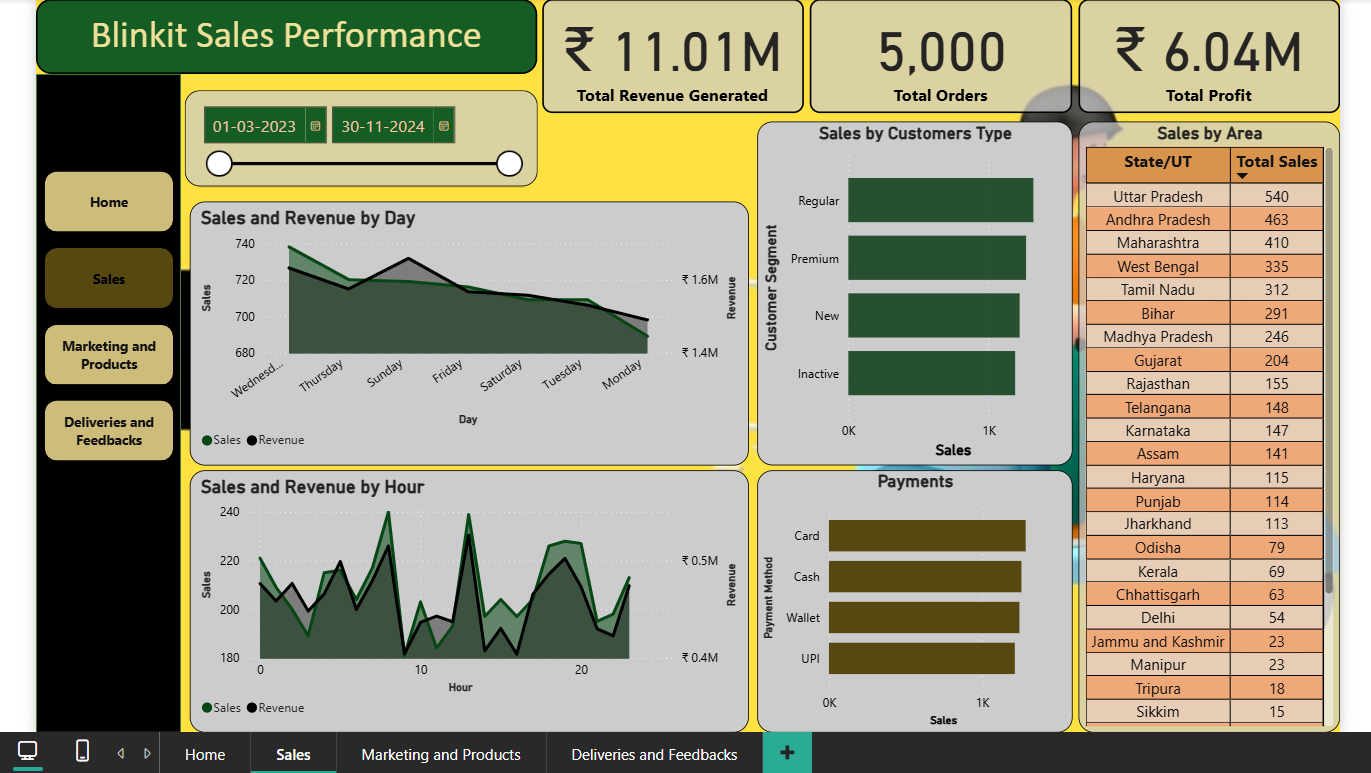

This screenshot's page, from the dashboard's own definition file:
{"tool":"powerbi","page":{"name":"Sales ","canvas":[1280,720],"ordinal":1},"visuals":[{"type":"card","fields":{"Values":["Sum(blinkit_project_files blinkit_orders.order_total)"]},"box":[497,0,256.4,111.7],"z":0},{"type":"card","fields":{"Values":["blinkit_project_files area_to_state1.Total_profit"]},"box":[1023.3,0,256.4,111.7],"z":1000},{"type":"card","fields":{"Values":["CountNonNull(blinkit_project_files blinkit_delivery_performance.order_id)"]},"box":[760,0,257.7,111.7],"z":2000},{"type":"slicer","fields":{"Values":["Date_Table_DDMMYYYY_Format.Date"]},"box":[146,89.6,346,94.5],"z":3000},{"type":"textbox","box":[0,0,492,73.6],"z":4000},{"type":"areaChart","fields":{"Category":["blinkit_project_files blinkit_orders.Order_hour"],"Y":["Count(blinkit_project_files blinkit_orders.order_id)"],"Y2":["Sum(blinkit_project_files blinkit_orders.order_total)"]},"box":[150.9,462.6,548.5,257.7],"z":5000},{"type":"tableEx","title":"Sales by Area","fields":{"Values":["blinkit_project_files area_to_state1.State/UT","blinkit_project_files blinkit_orders.order_id"]},"box":[1023.3,120.2,256.4,600],"z":6000},{"type":"areaChart","fields":{"Y":["Count(blinkit_project_files blinkit_orders.order_id)"],"Y2":["Sum(blinkit_project_files blinkit_orders.order_total)"],"Category":["Date_Table_DDMMYYYY_Format.Day"]},"box":[150.9,198.8,548.5,258.9],"z":7000},{"type":"barChart","title":"Sales by Customers Type","fields":{"Category":["blinkit_project_files blinkit_customers.customer_segment"],"Y":["Count(blinkit_project_files blinkit_orders.order_id)"]},"box":[708,120.2,309.2,337.4],"z":8000},{"type":"barChart","title":"Payments","fields":{"Category":["blinkit_project_files blinkit_orders.payment_method"],"Y":["Count(blinkit_project_files blinkit_orders.order_id)"]},"box":[708,462.6,309.2,257.7],"z":9000},{"type":"shape","box":[0,73.6,142.3,646.6],"z":9001},{"type":"pageNavigator","box":[8.6,169.3,126.4,287.1],"z":9002}]}

Visuals, with their boxes in screenshot pixels (x1, y1, x2, y2):
card - Sum(blinkit_project_files blinkit_orders.order_total): crop(538, 0, 800, 107)
card - blinkit_project_files area_to_state1.Total_profit: crop(1075, 0, 1336, 107)
card - CountNonNull(blinkit_project_files blinkit_delivery_performance.order_id): crop(806, 0, 1069, 107)
slicer - Date_Table_DDMMYYYY_Format.Date: crop(181, 84, 533, 180)
textbox: crop(32, 0, 533, 68)
areaChart - blinkit_project_files blinkit_orders.Order_hour x Count(blinkit_project_files blinkit_orders.order_id): crop(186, 464, 745, 727)
"Sales by Area" tableEx: crop(1075, 115, 1336, 727)
areaChart - Count(blinkit_project_files blinkit_orders.order_id) x Sum(blinkit_project_files blinkit_orders.order_total): crop(186, 195, 745, 459)
"Sales by Customers Type" barChart: crop(753, 115, 1068, 459)
"Payments" barChart: crop(753, 464, 1068, 727)
shape: crop(32, 68, 177, 727)
pageNavigator: crop(41, 165, 170, 458)
